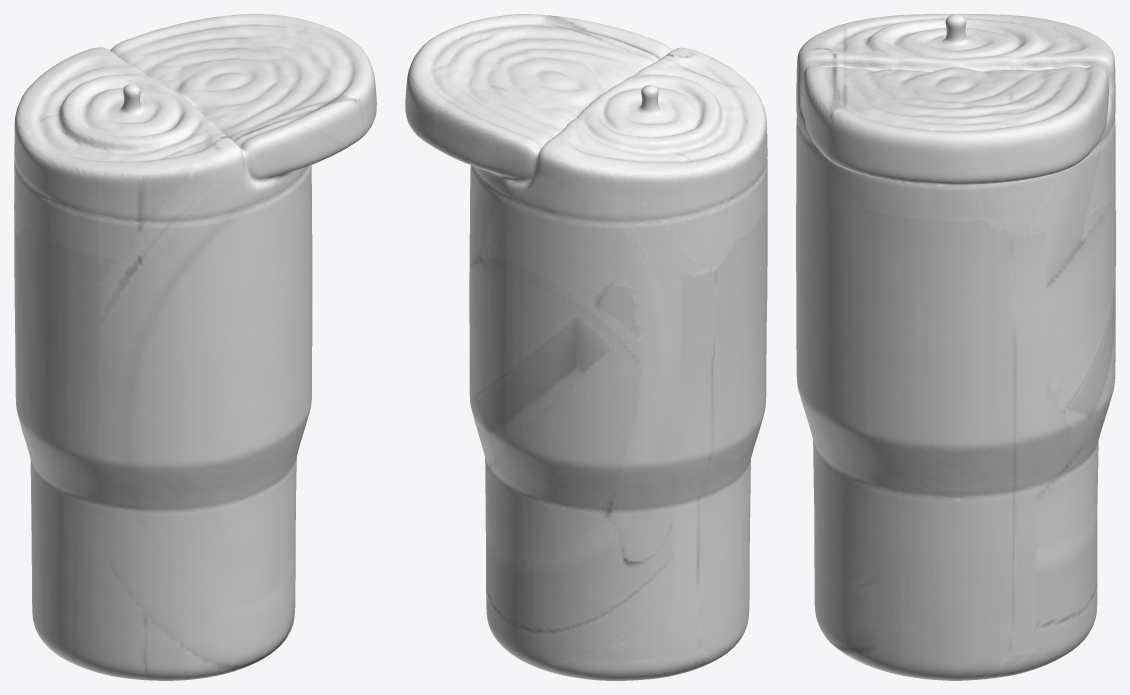
The model's file is test_baker_output.glb.
3 renders of one model, left to right at view 1: azimuth 30°, elevation 25°; view 2: azimuth 150°, elevation 25°; view 3: azimuth 270°, elevation 25°, orthographic. The views are drawn at different scales.
Parts seen in each view (by area): view 1: geometry_0; view 2: geometry_0; view 3: geometry_0.
Part boxes in pixels (<box>): geometry_0: <box>14,14,376,680</box>; geometry_0: <box>405,14,767,680</box>; geometry_0: <box>796,14,1115,680</box>.
Bounding box in the file's own units: 1.21 × 1.99 × 0.9665.
Materials: 1 (1 with a texture image).
